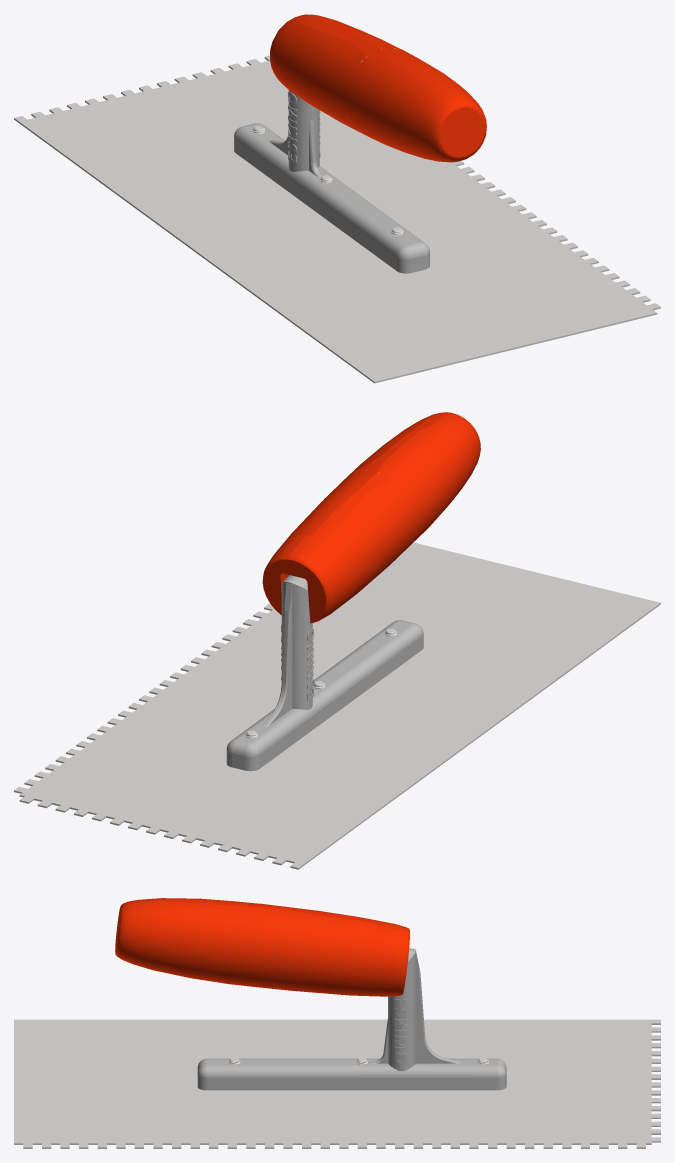
Rendered from Tandspartel2.glb.
The picture shows the model from 3 angles, top to bottom: view 1: azimuth 30°, elevation 25°; view 2: azimuth 150°, elevation 25°; view 3: azimuth 270°, elevation 25°; orthographic projection. The views are drawn at different scales.
Visible parts, largest first — view 1: mesh 1 Tandspartel, mesh 2 Blad med angel Tandspartel-1/Tandspartel screw-1-soli, mesh 3 Tandspartel handle-1-solid1; view 2: mesh 1 Tandspartel, mesh 2 Blad med angel Tandspartel-1/Tandspartel screw-1-soli, mesh 3 Tandspartel handle-1-solid1; view 3: mesh 1 Tandspartel, mesh 2 Blad med angel Tandspartel-1/Tandspartel screw-1-soli, mesh 3 Tandspartel handle-1-solid1.
Boxes of the visible parts, box(x1,y1,x2,y2) form: mesh 1 Tandspartel: box(14, 55, 660, 383); mesh 2 Blad med angel Tandspartel-1/Tandspartel screw-1-soli: box(270, 14, 486, 162); mesh 3 Tandspartel handle-1-solid1: box(234, 90, 429, 273); mesh 1 Tandspartel: box(14, 542, 660, 869); mesh 2 Blad med angel Tandspartel-1/Tandspartel screw-1-soli: box(262, 412, 480, 623); mesh 3 Tandspartel handle-1-solid1: box(226, 575, 423, 771); mesh 1 Tandspartel: box(14, 1019, 660, 1148); mesh 2 Blad med angel Tandspartel-1/Tandspartel screw-1-soli: box(115, 898, 409, 996); mesh 3 Tandspartel handle-1-solid1: box(197, 948, 506, 1090).
Size of the model in its own units: 0.13 by 0.0871 by 0.2785.
